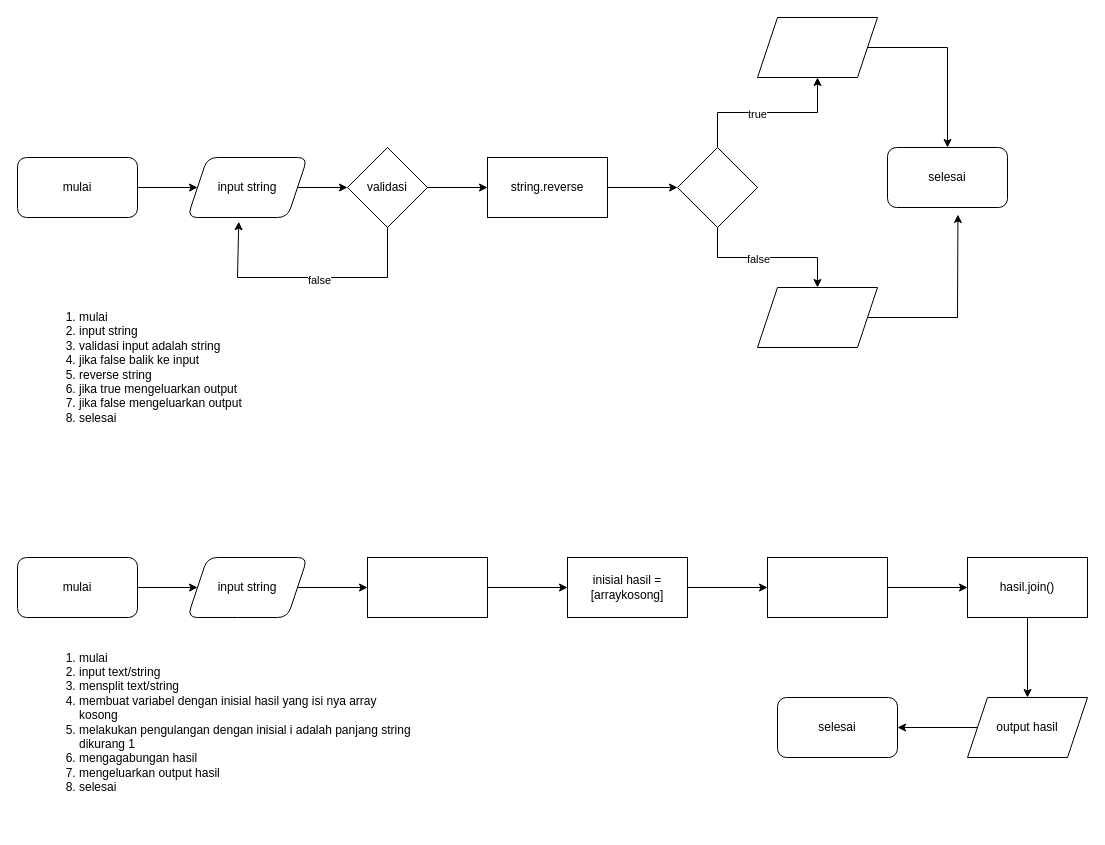
Image size: 1105x845. Some labels were removed from this diagram. Here are the shapes that lost their labels. From the top down, the centre of each, then its label:
point (817, 47): output "teks adalah polindrum"
point (717, 187): palindrom?
point (817, 317): output "teks bukan polindrum"
point (427, 587): string.split()
point (827, 587): pengulangan i=length-1
